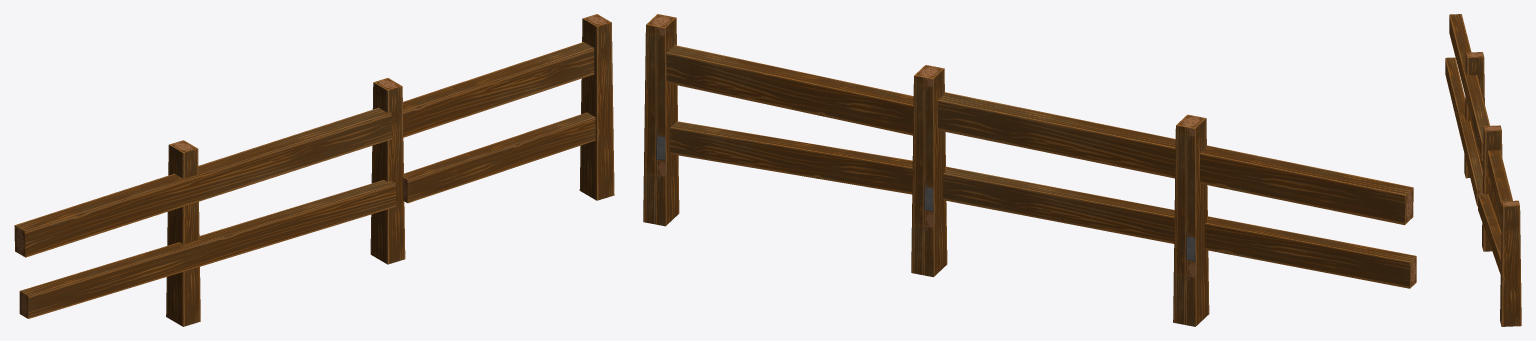
3 renders of one model, left to right at view 1: azimuth 30°, elevation 25°; view 2: azimuth 150°, elevation 25°; view 3: azimuth 270°, elevation 25°, orthographic. The views are drawn at different scales.
Visible parts, largest first — view 1: Cube.2154; view 2: Cube.2154; view 3: Cube.2154.
Boxes of the visible parts, box(x1,y1,x2,y2) form: Cube.2154: box(14, 14, 614, 326); Cube.2154: box(643, 14, 1416, 326); Cube.2154: box(1445, 14, 1521, 326).
Bounding box in the file's own units: 502 × 132 × 76.31.
Materials: 1 (1 with a texture image).
